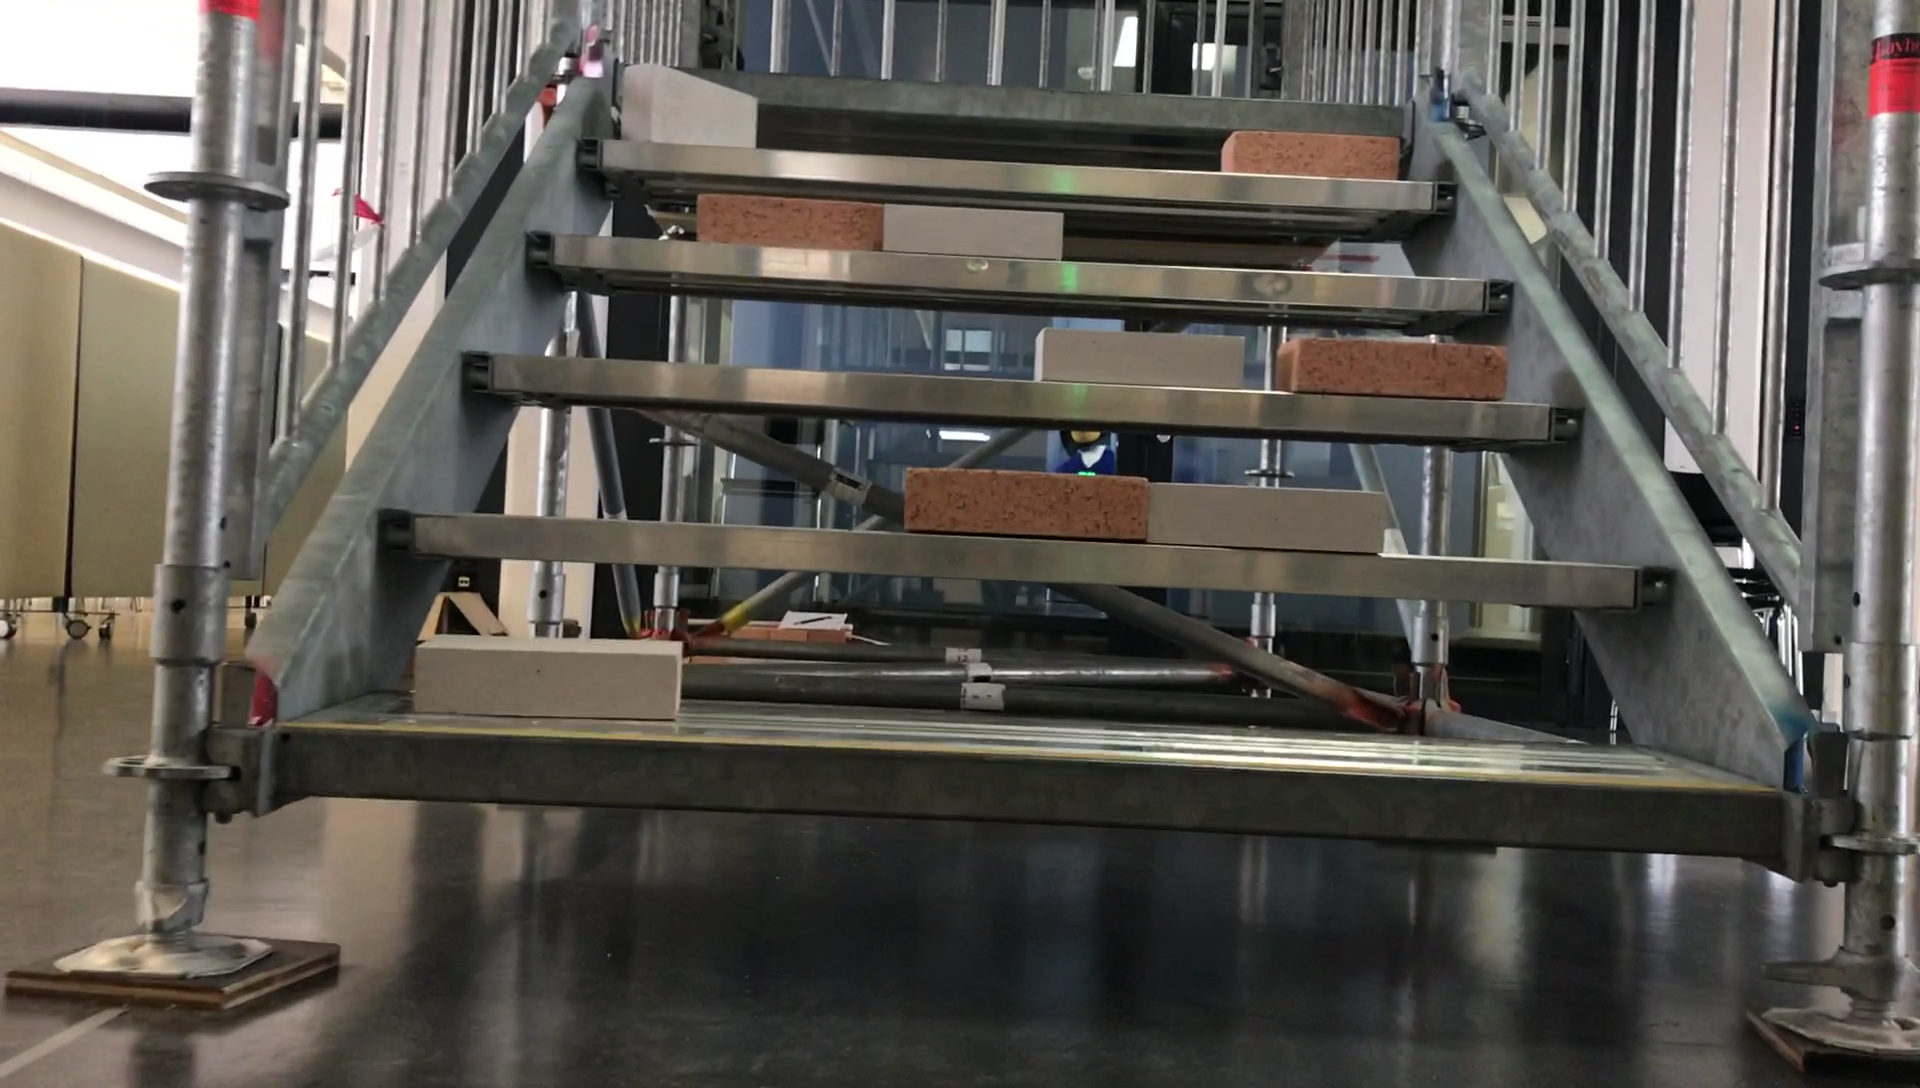brick: (413, 634, 680, 719), (1149, 479, 1387, 553), (901, 471, 1145, 541), (1279, 338, 1505, 398), (1033, 328, 1242, 390), (625, 65, 756, 146), (700, 193, 876, 248), (884, 204, 1063, 257), (1222, 133, 1398, 179)
edge: (282, 727, 1780, 853), (377, 514, 1675, 608), (464, 353, 1582, 440), (527, 229, 1519, 313), (572, 138, 1456, 210)
stairs: (9, 8, 1920, 1088)
steps: (274, 58, 1795, 895)
